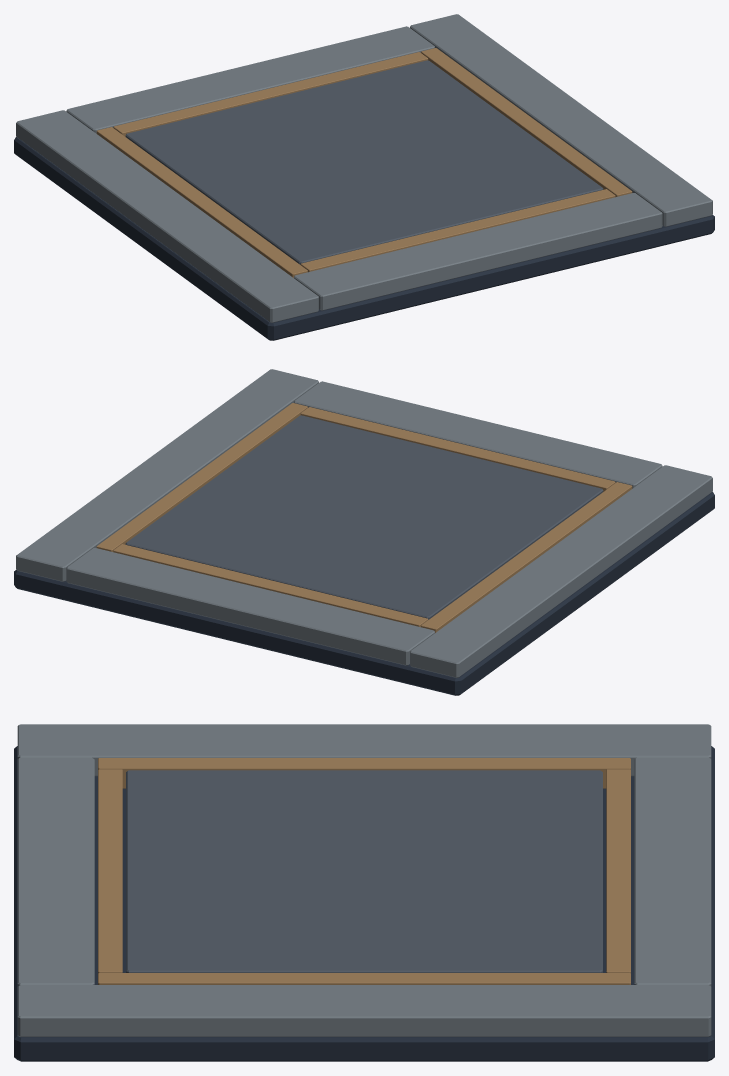
File: floor-inset.glb
3 renders of one model, top to bottom at view 1: azimuth 30°, elevation 25°; view 2: azimuth 150°, elevation 25°; view 3: azimuth 270°, elevation 25°, orthographic. The views are drawn at different scales.
Visible parts, largest first — view 1: floor-inset__body; view 2: floor-inset__body; view 3: floor-inset__body.
Part boxes in pixels (x1,y1,x2,y2): floor-inset__body: [14, 14, 714, 340]; floor-inset__body: [14, 369, 714, 695]; floor-inset__body: [14, 724, 714, 1061].
Bounding box in the file's own units: 2 × 0.14 × 2.
